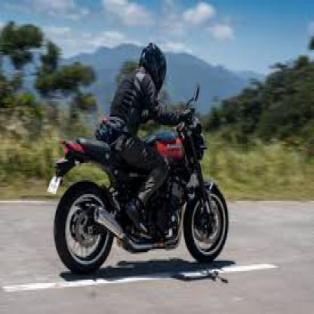Motocicleta: (43, 114, 230, 276)
